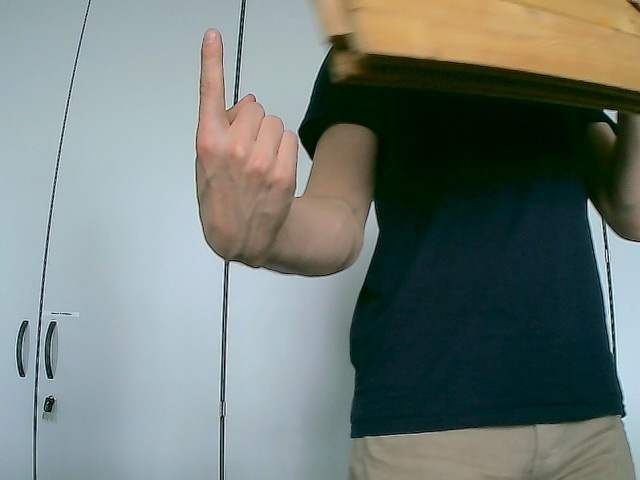up: (193, 27, 300, 267)
